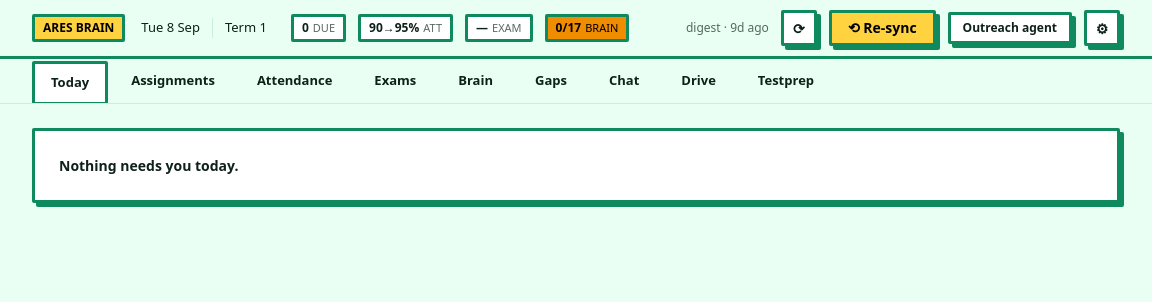
a later refresh failing after a good load shows a non-blocking stale banner, not the full-page error
The width and height of the screenshot is (1152, 302).
Expected: the text "ARES BRAIN" is shown, x1=32 y1=14 x2=125 y2=42
Click the button "⟲ Re-sync": x=882, y=28 x1=829 y1=10 x2=936 y2=46
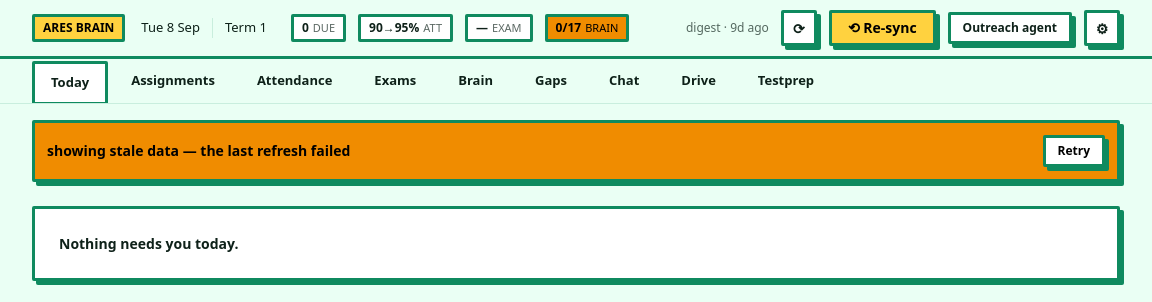
Expected: the text "ARES BRAIN" is shown, x1=32 y1=14 x2=125 y2=42
Result: the text "showing stale data — the last refresh failed" is shown at x1=47 y1=141 x2=350 y2=161
